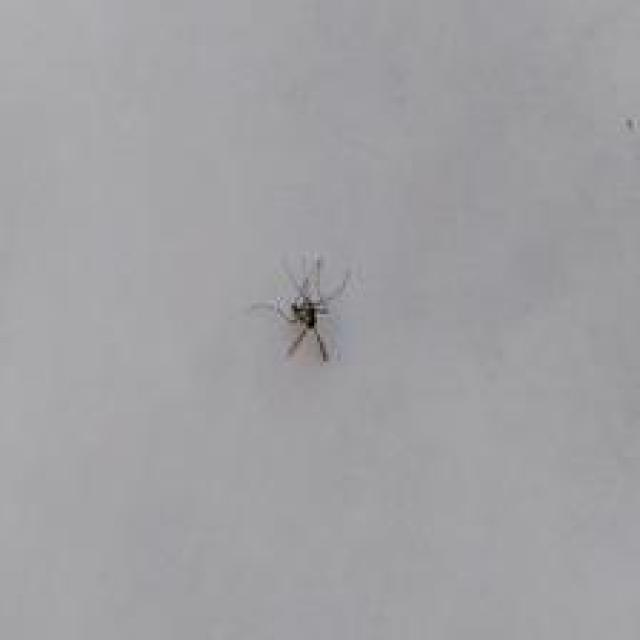Aedes albopictus: (250, 250, 353, 364)
